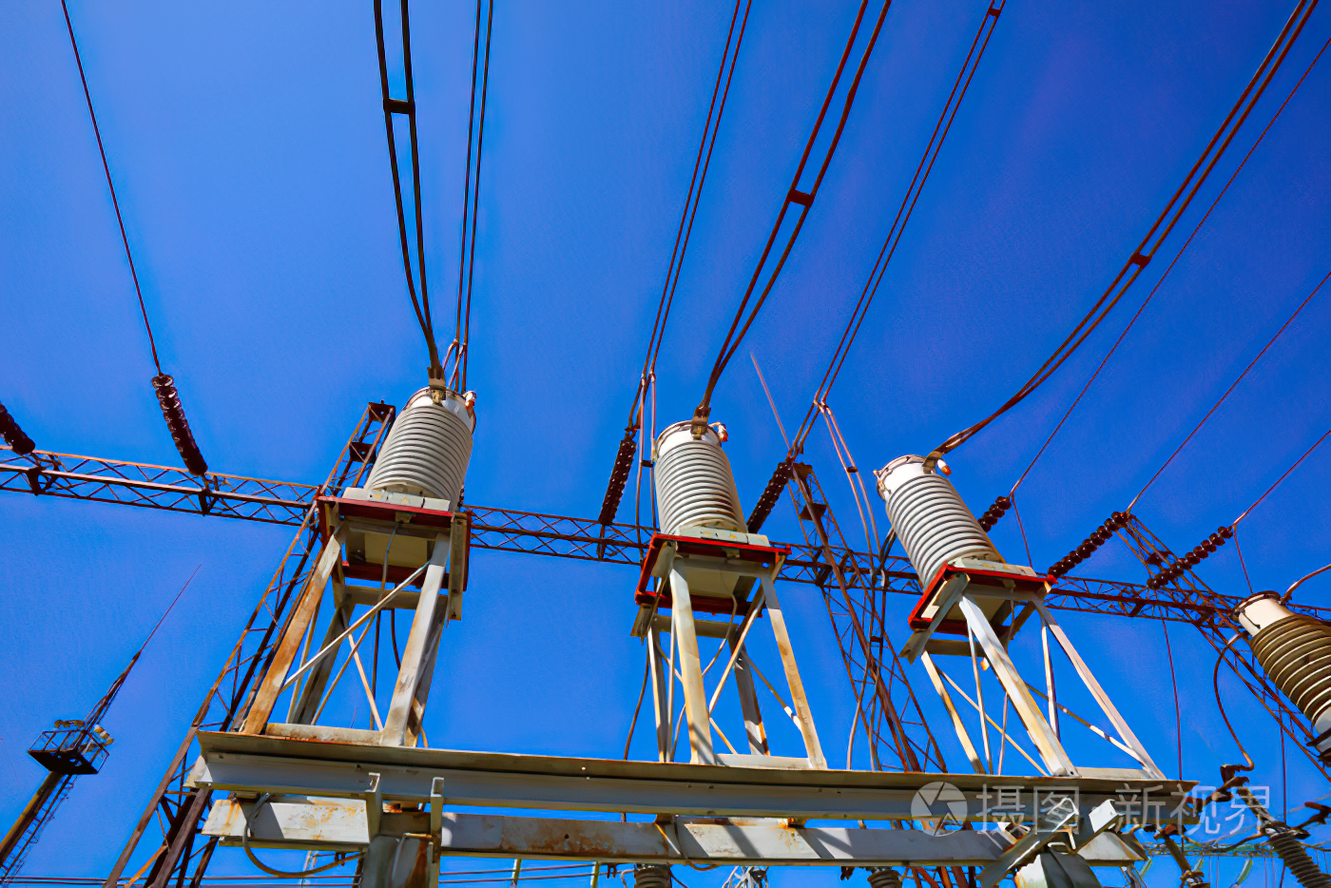insulator: (150, 370, 208, 480), (1044, 512, 1128, 582), (1147, 526, 1237, 588), (595, 435, 638, 527), (748, 460, 792, 531), (1, 396, 37, 458), (971, 496, 1015, 530)
